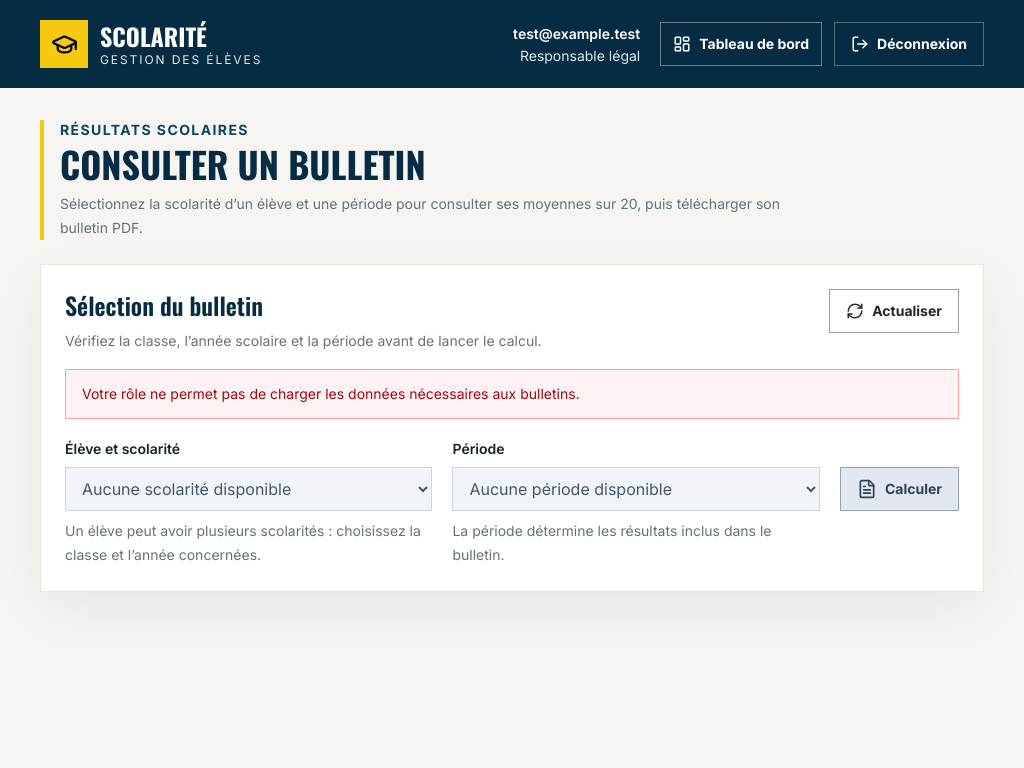
Test: bulletins › préserve l’erreur d’accès au chargement puis permet d’actualiser
Expected: the message reads "Votre rôle ne permet pas de charger les données nécessaires aux bulletins.", x1=82 y1=385 x2=580 y2=402
Click the button "Actualiser" at (894, 311), box x1=829 y1=289 x2=959 y2=333
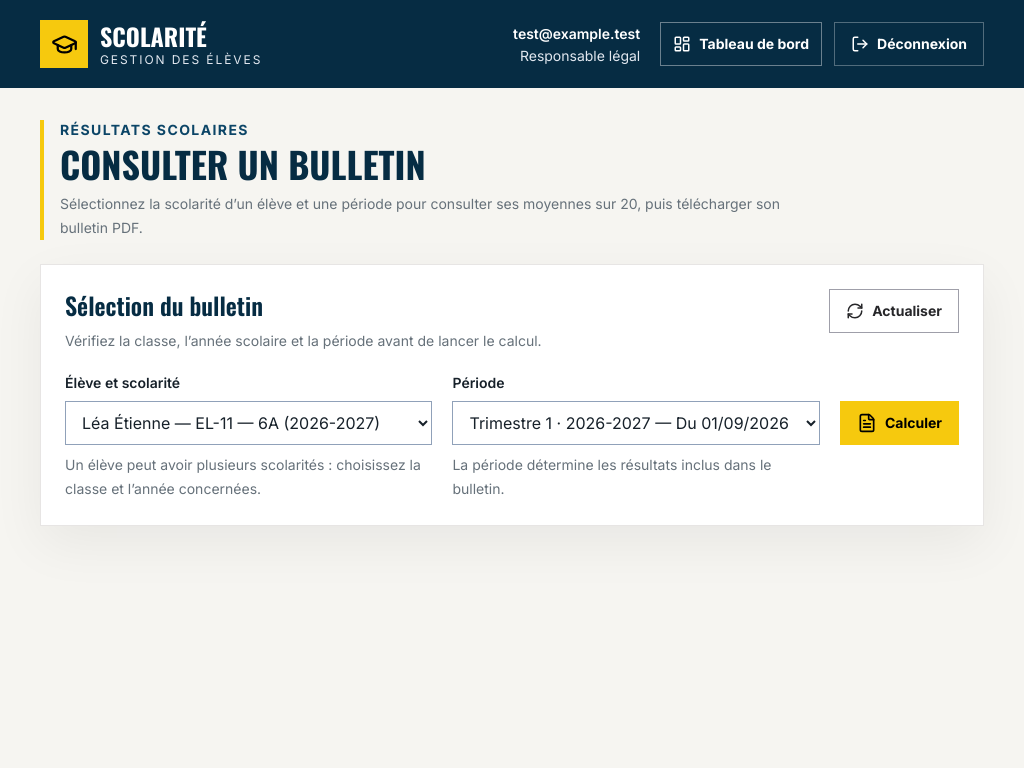
Result: the button "Calculer" is enabled at x1=840 y1=401 x2=959 y2=445
Result: the message "Votre rôle ne permet pas de charger les données nécessaires aux bulletins." is gone
